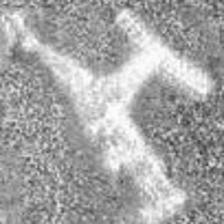plane: (7, 13, 209, 218)
